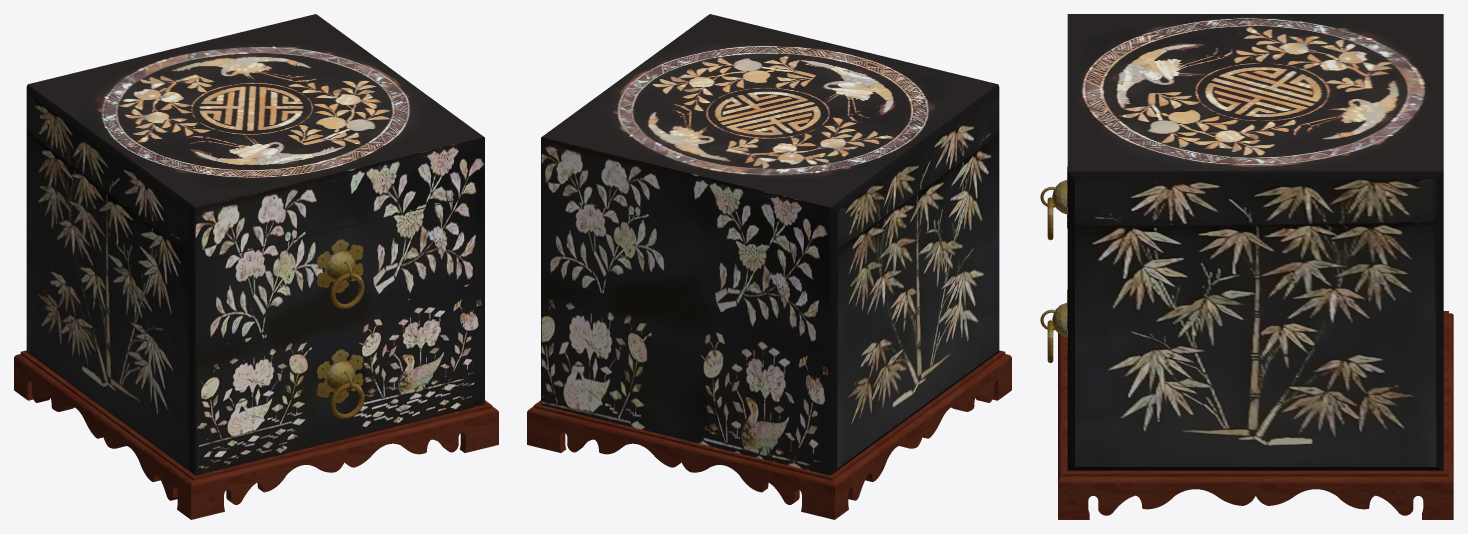
Rendered from a drawer.FBX.
The picture shows the model from 3 angles, left to right: view 1: azimuth 30°, elevation 25°; view 2: azimuth 150°, elevation 25°; view 3: azimuth 270°, elevation 25°; orthographic projection. The views are drawn at different scales.
Visible parts, largest first — view 1: Group_4215, Group_4210, Group_4212; view 2: Group_4215; view 3: Group_4215, Group_4212, Group_4210.
Boxes of the visible parts, bbox=[...] form: Group_4215: bbox=[14, 14, 498, 519]; Group_4210: bbox=[195, 280, 484, 475]; Group_4212: bbox=[195, 193, 484, 349]; Group_4215: bbox=[527, 14, 1011, 519]; Group_4215: bbox=[1058, 14, 1453, 519]; Group_4212: bbox=[1040, 166, 1067, 240]; Group_4210: bbox=[1040, 289, 1067, 362].
Size of the model in its own units: 13.74 by 13.1 by 14.3.
